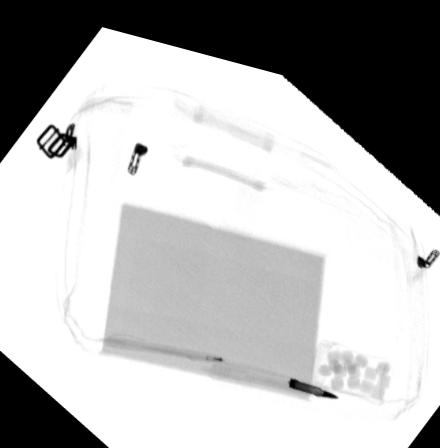Bullet: (286, 360, 339, 380)
